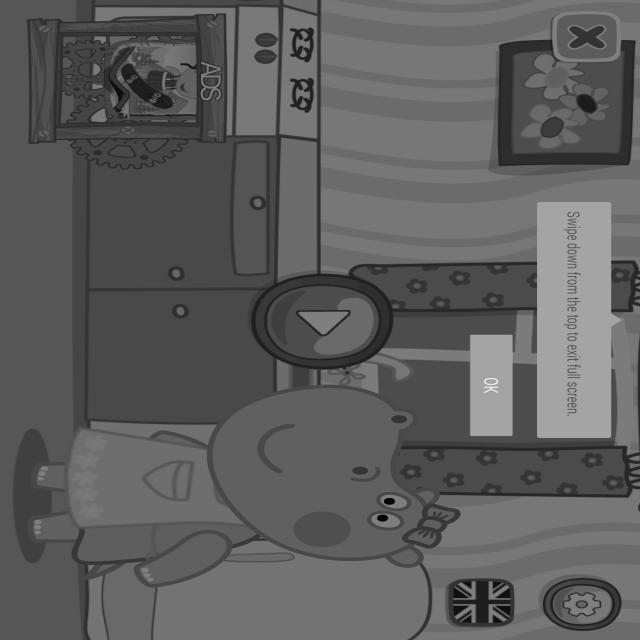Button: (464, 330, 517, 442)
ImageButton: (260, 278, 393, 366), (544, 576, 631, 631), (441, 576, 520, 630), (550, 9, 624, 61)
TextView: (558, 203, 605, 432), (187, 62, 234, 100)
